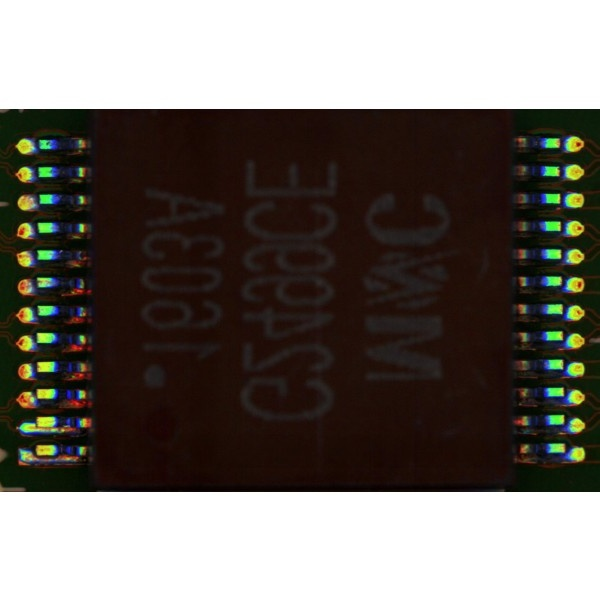Bad_qiaojiao: (36, 456, 80, 463), (36, 427, 73, 433)
